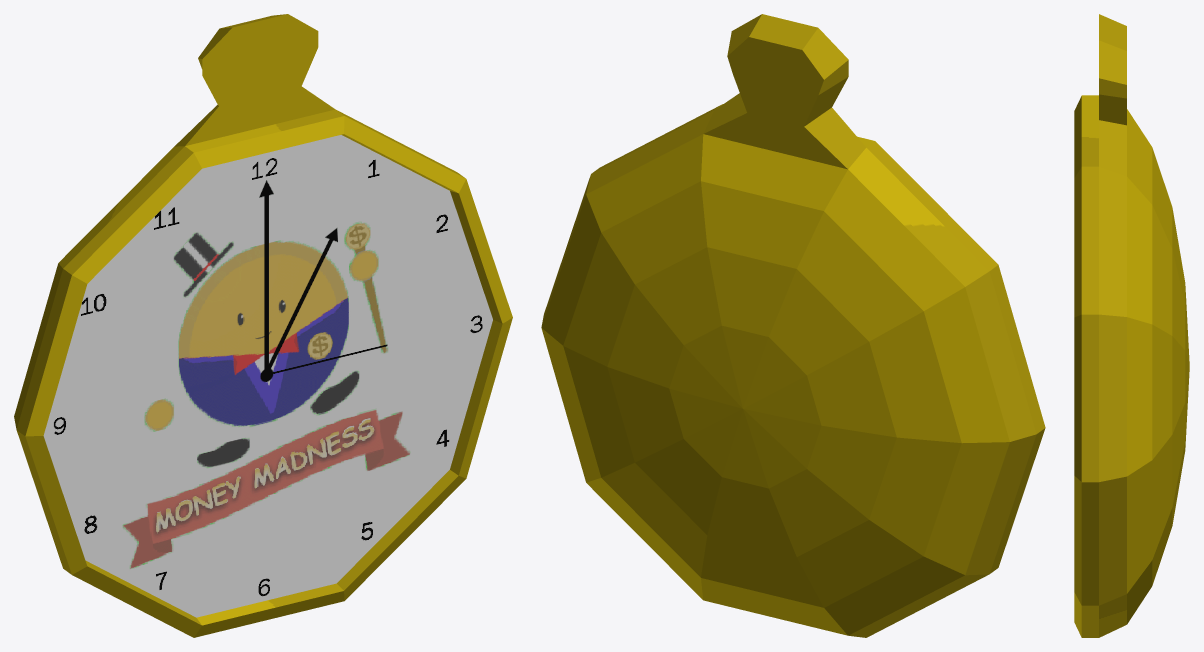
File: StopWatch.fbx
The picture shows the model from 3 angles, left to right: view 1: azimuth 30°, elevation 25°; view 2: azimuth 150°, elevation 25°; view 3: azimuth 270°, elevation 25°; orthographic projection. The views are drawn at different scales.
Visible parts, largest first — view 1: pSphere1; view 2: pSphere1; view 3: pSphere1.
Part boxes in pixels (x1,y1,x2,y2): pSphere1: [14, 14, 512, 637]; pSphere1: [541, 14, 1045, 637]; pSphere1: [1074, 14, 1189, 637].
Size of the model in its own units: 2 by 2.32 by 0.4228.
